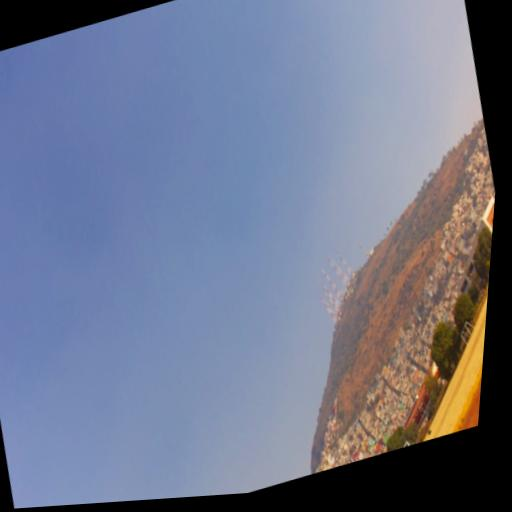drones: (343, 297, 347, 303)
